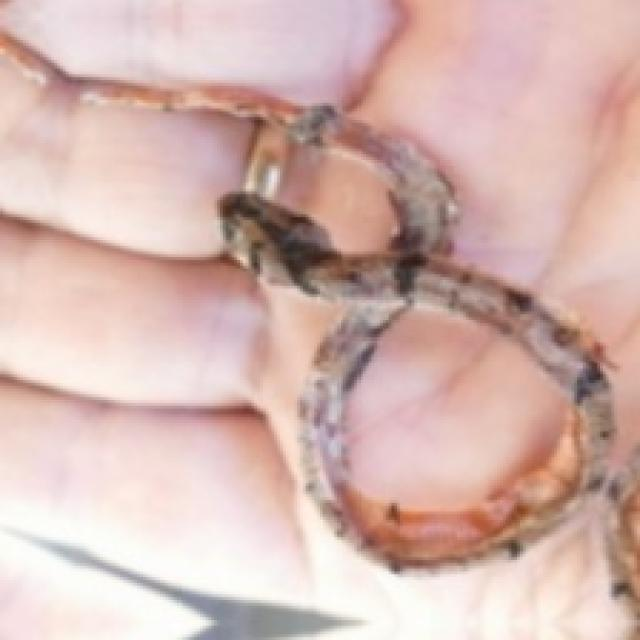northern short-headed snake: (0, 0, 637, 637), (346, 306, 554, 506), (277, 146, 391, 251)
